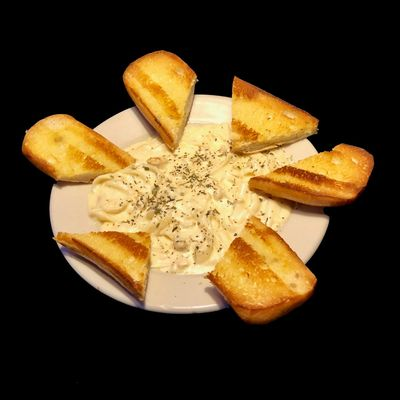soup: (20, 113, 136, 184), (122, 50, 197, 152), (230, 76, 319, 156), (57, 230, 151, 302)
